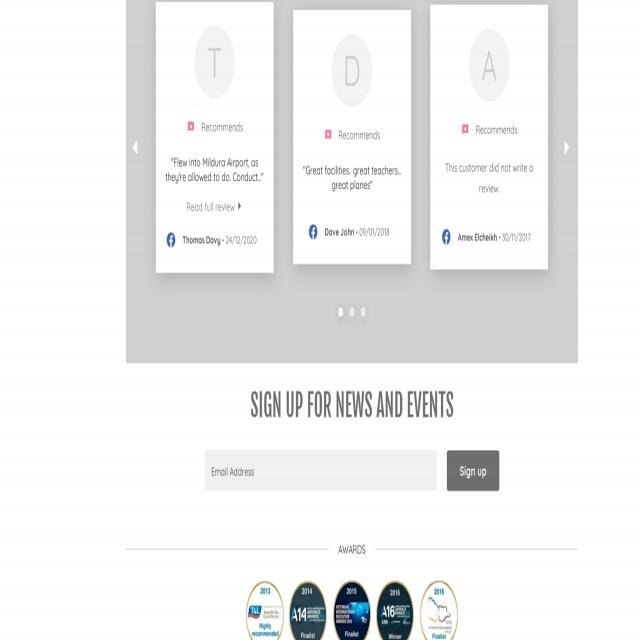button: (156, 1, 274, 271), (430, 5, 548, 268), (293, 8, 411, 264), (245, 580, 284, 640), (375, 580, 414, 640), (289, 580, 327, 640), (420, 580, 458, 640), (333, 580, 370, 640), (447, 450, 499, 492), (129, 137, 141, 158), (561, 137, 573, 158), (166, 231, 176, 249), (308, 223, 318, 241), (441, 228, 451, 246), (336, 305, 344, 319), (348, 306, 356, 318), (359, 306, 367, 318), (237, 200, 243, 211)
field: (205, 450, 437, 492)
